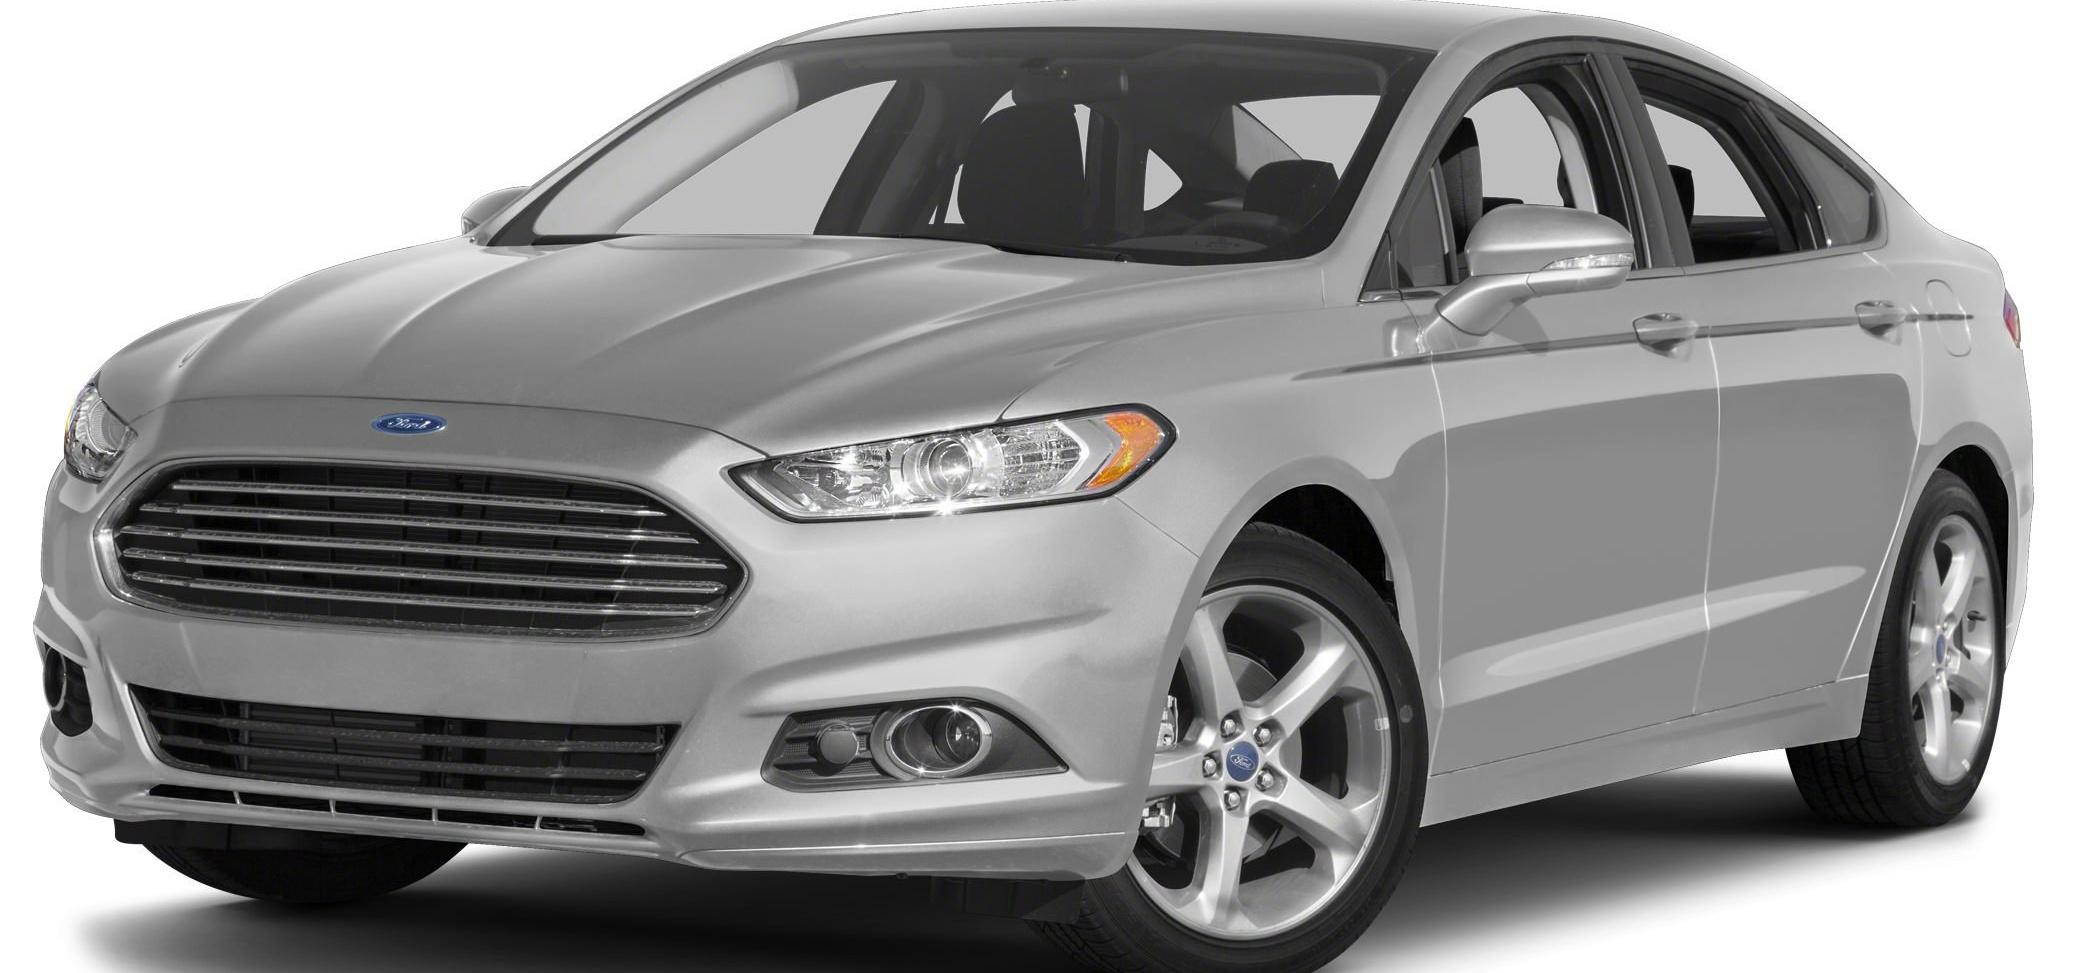Cars: (37, 8, 2032, 972)
